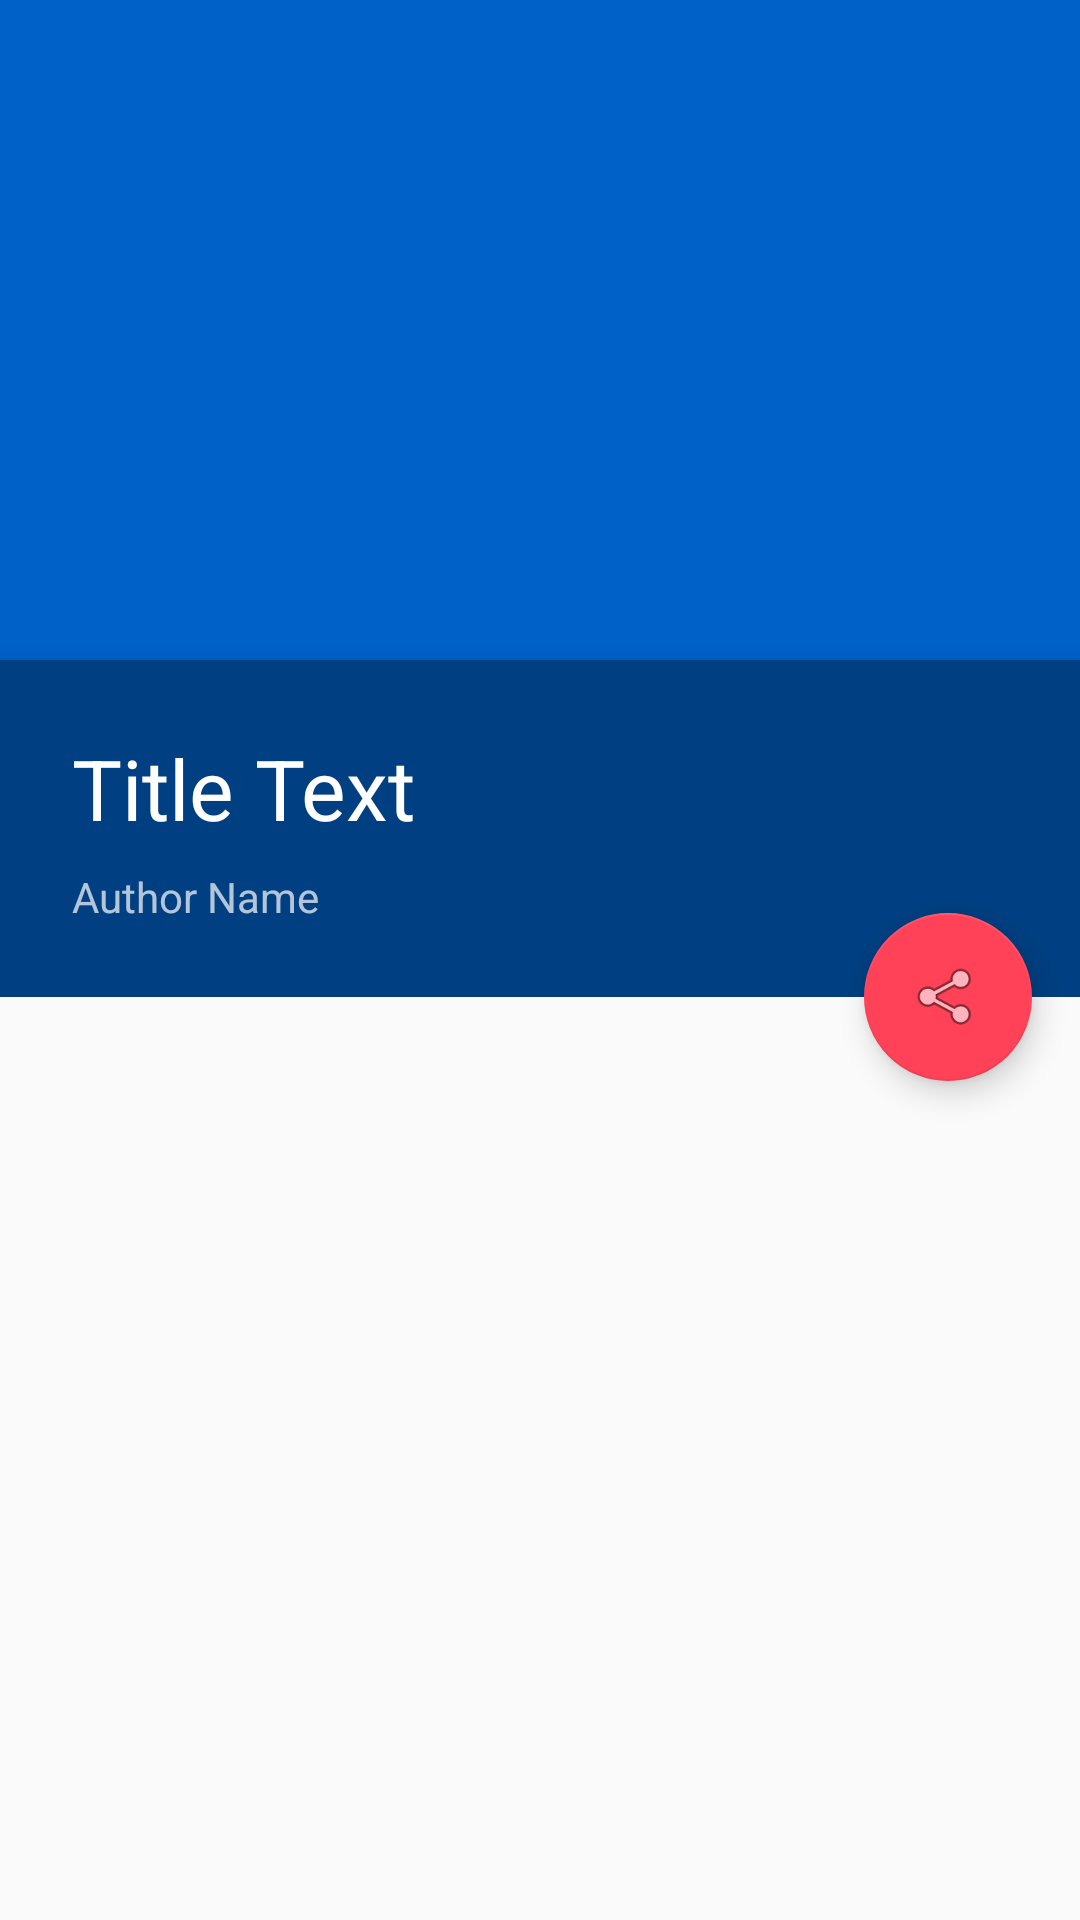

Point at icon controls on the screen. Image size 1080px x 1920px, points as (x=x, y=y).
share: (x=948, y=997)
